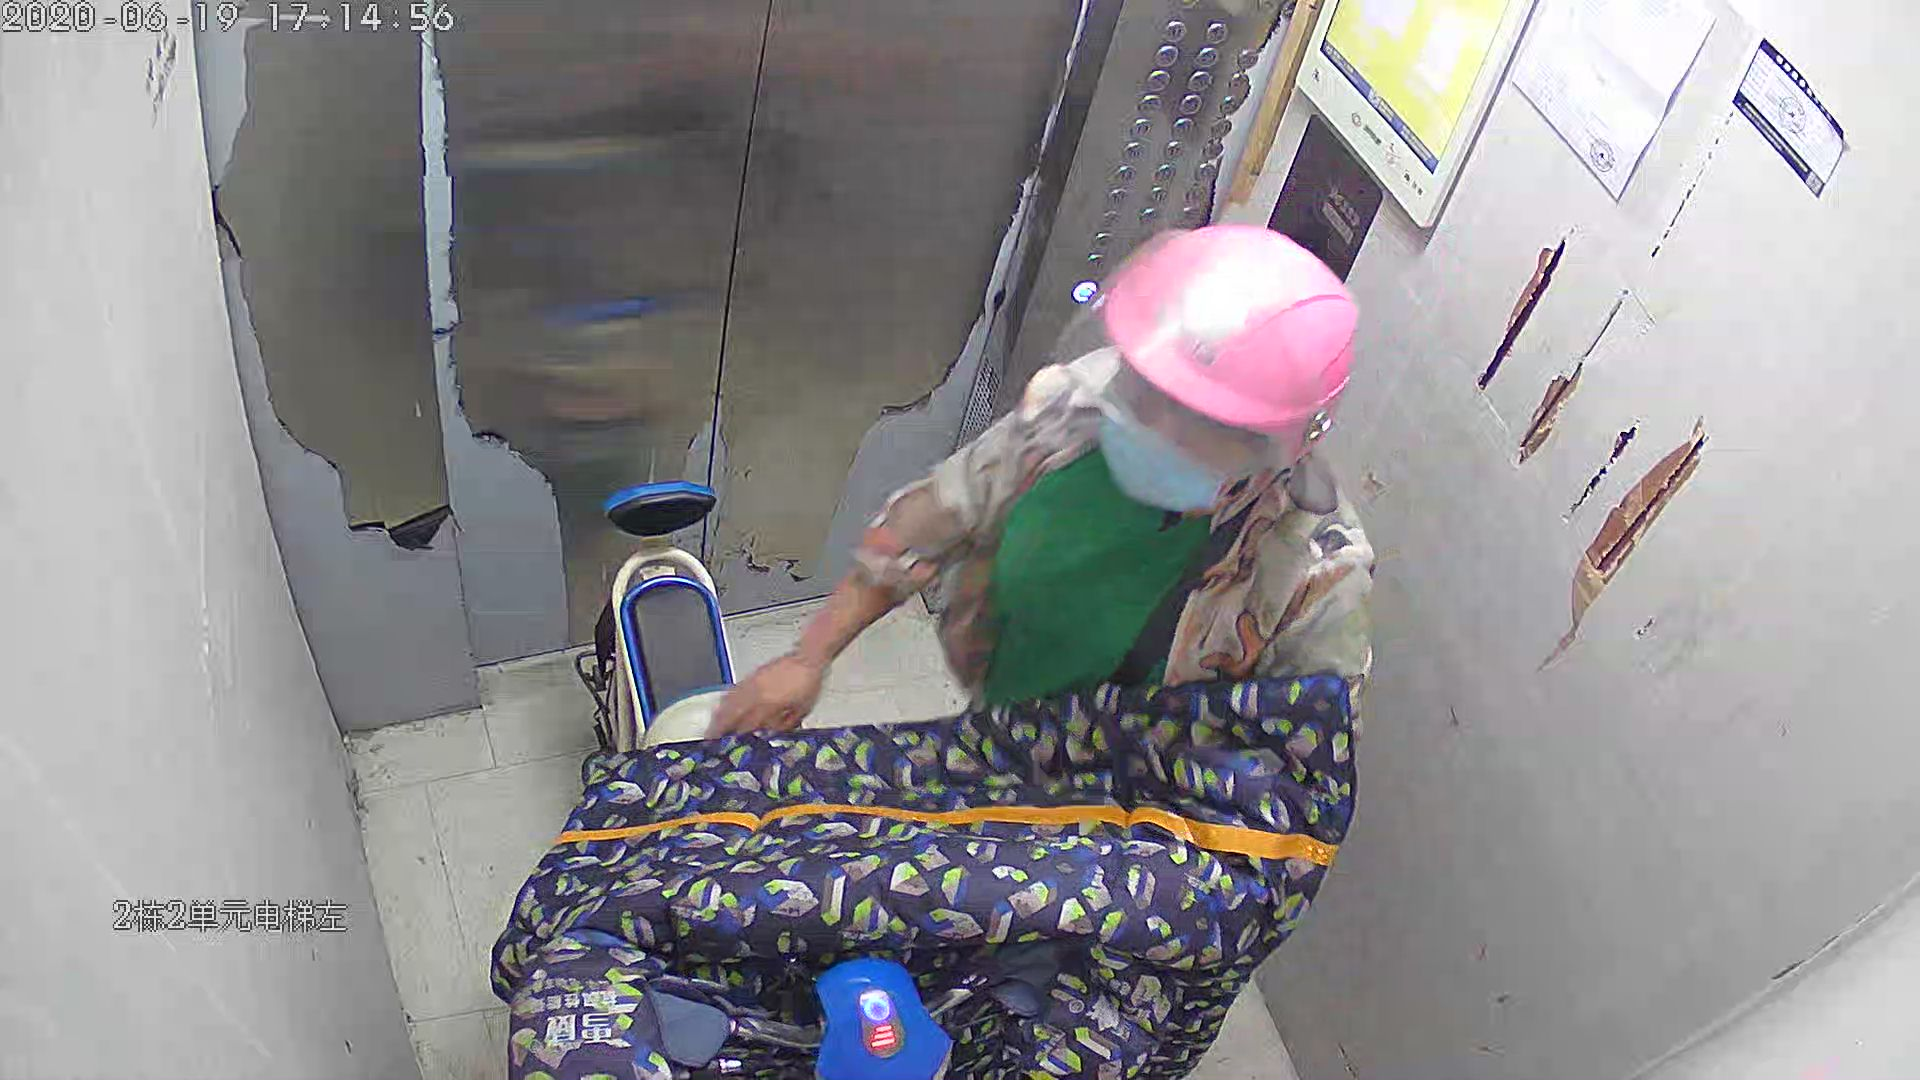Electric-bicycle: (570, 472, 956, 1080)
